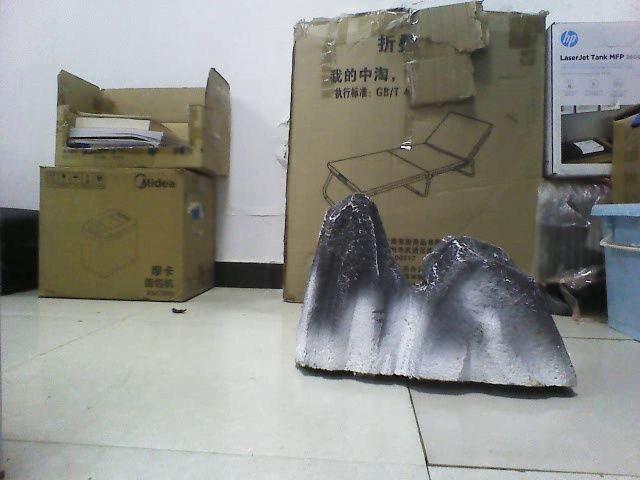rock: (295, 191, 580, 389)
